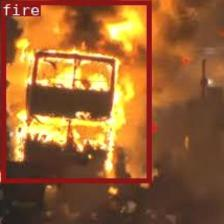fire: (0, 0, 150, 182)
